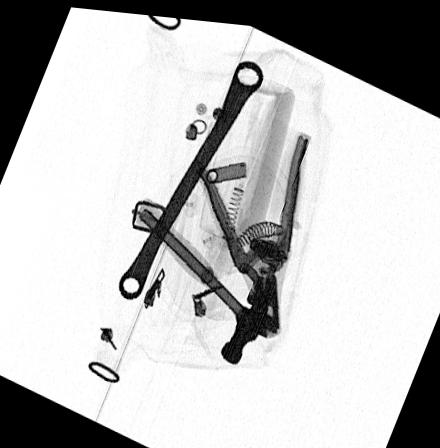Hammer: (129, 193, 274, 359)
Pliers: (187, 125, 311, 335)
Wrench: (116, 53, 260, 297)
